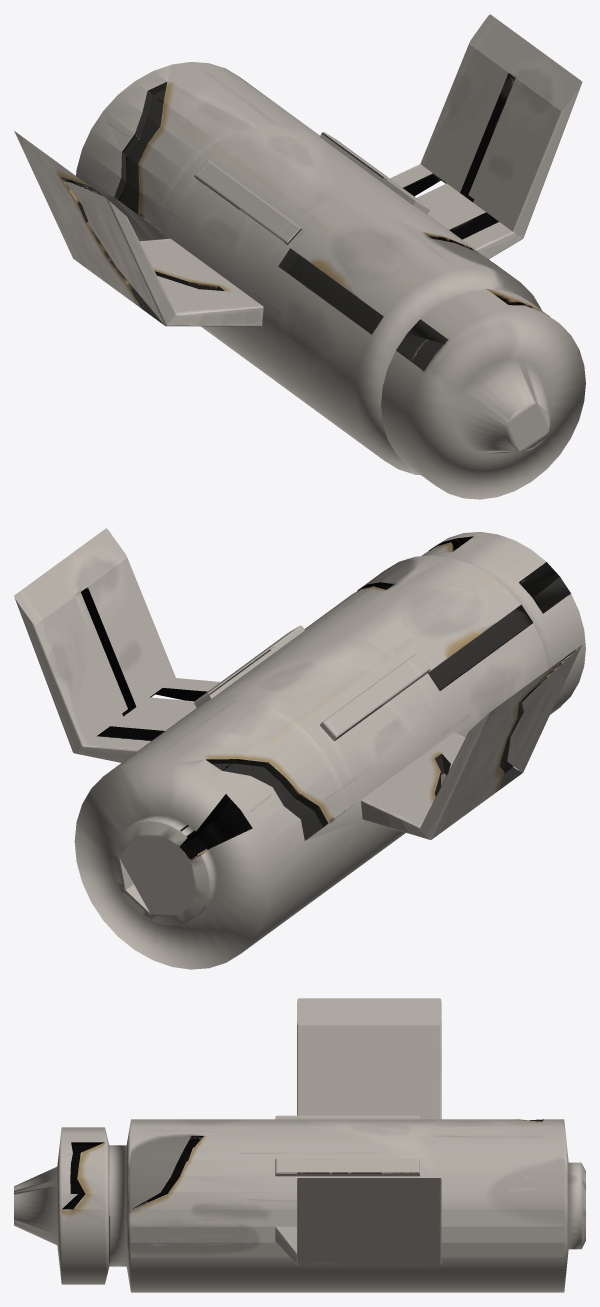
File: SSCWreckage2.fbx
The picture shows the model from 3 angles, top to bottom: view 1: azimuth 30°, elevation 25°; view 2: azimuth 150°, elevation 25°; view 3: azimuth 270°, elevation 25°; orthographic projection. The views are drawn at different scales.
Parts seen in each view (by area): view 1: SSCWreckage2; view 2: SSCWreckage2; view 3: SSCWreckage2.
Boxes of the visible parts, left/top/right/bottom form: SSCWreckage2: left=14, top=14, right=585, bottom=499; SSCWreckage2: left=14, top=528, right=585, bottom=969; SSCWreckage2: left=14, top=998, right=585, bottom=1292.
Bounding box in the file's own units: 98000 × 50000 × 132000.
